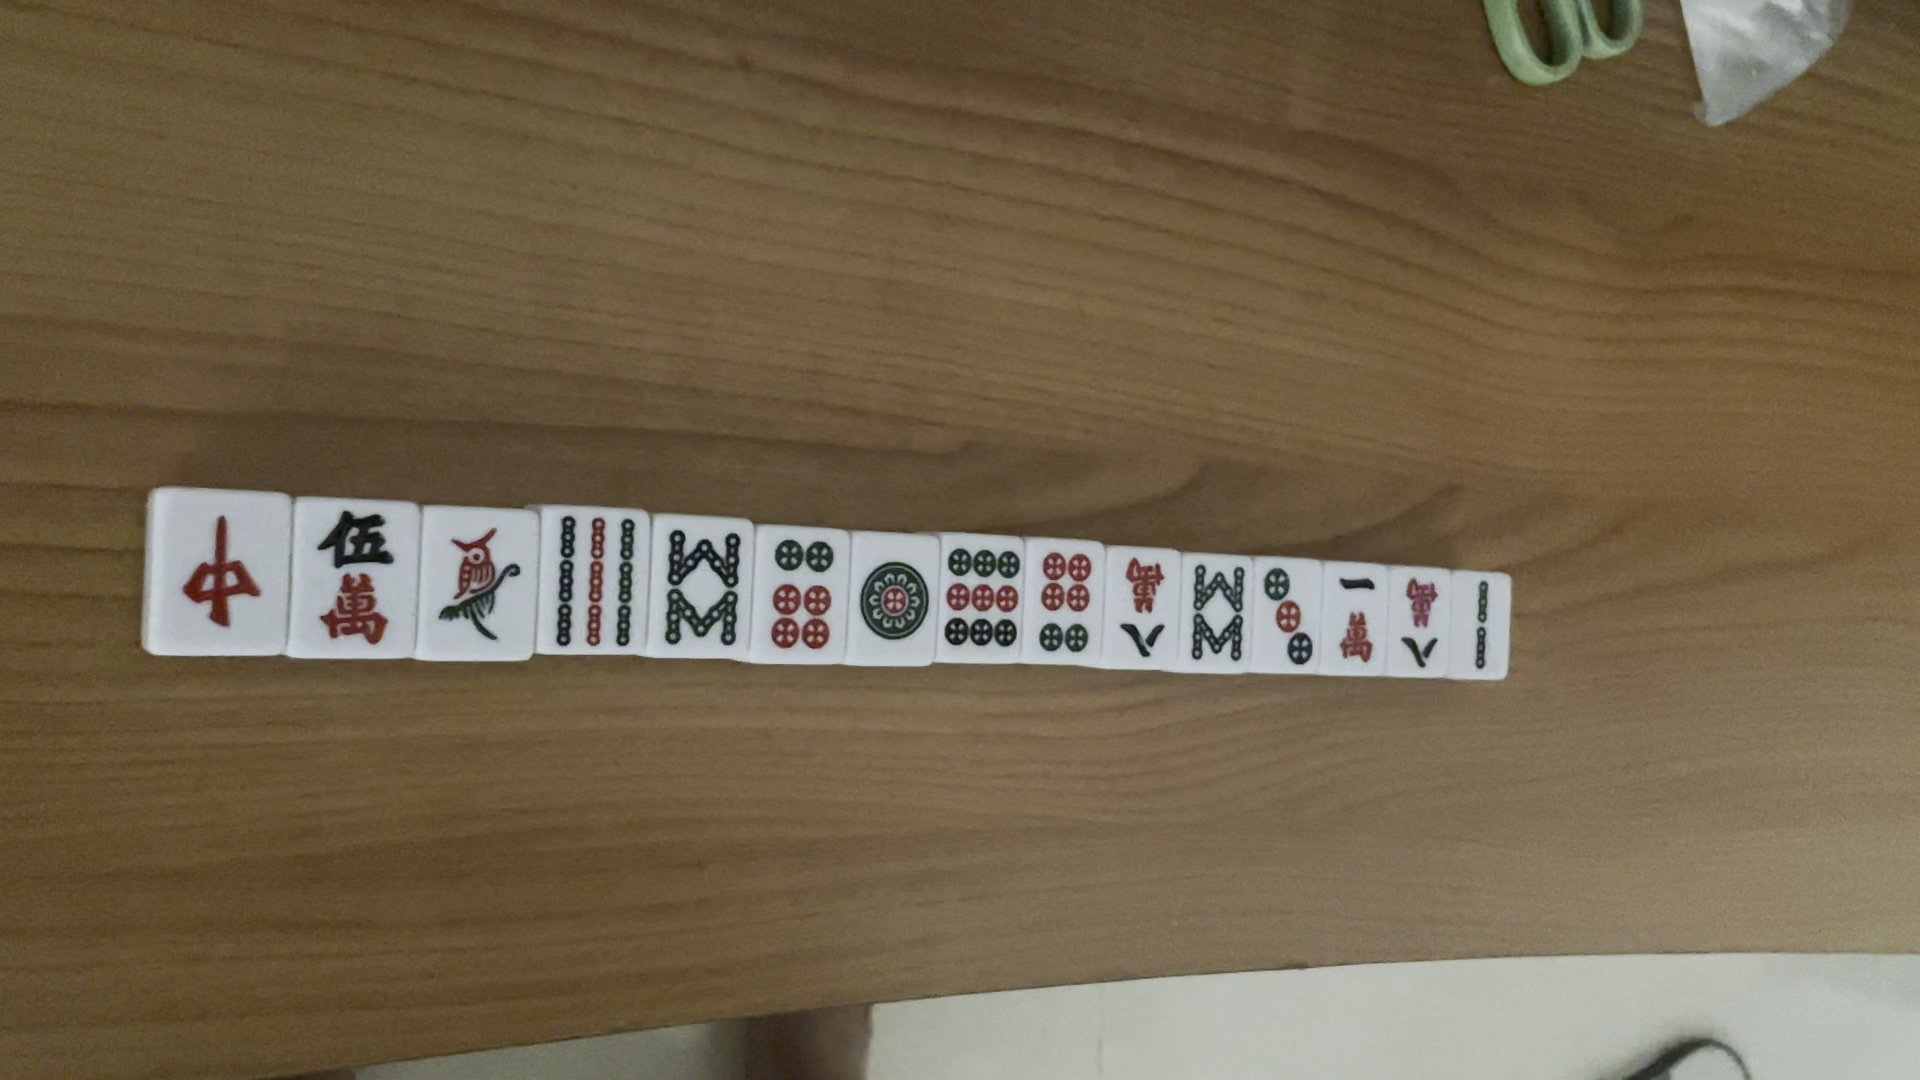b-1: (442, 521, 526, 657)
b-2: (1468, 572, 1502, 676)
b-8: (658, 520, 747, 663), (1187, 556, 1251, 666)
b-9: (547, 511, 642, 653)
c-1: (1325, 564, 1383, 666)
c-5: (306, 506, 404, 654)
c-8: (1116, 556, 1174, 662), (1396, 567, 1447, 673)
d-1: (847, 548, 933, 650)
d-3: (1261, 562, 1316, 667)
d-6: (771, 533, 841, 654), (1031, 547, 1102, 660)
d-9: (942, 547, 1018, 651)
honors-red: (165, 502, 270, 641)
